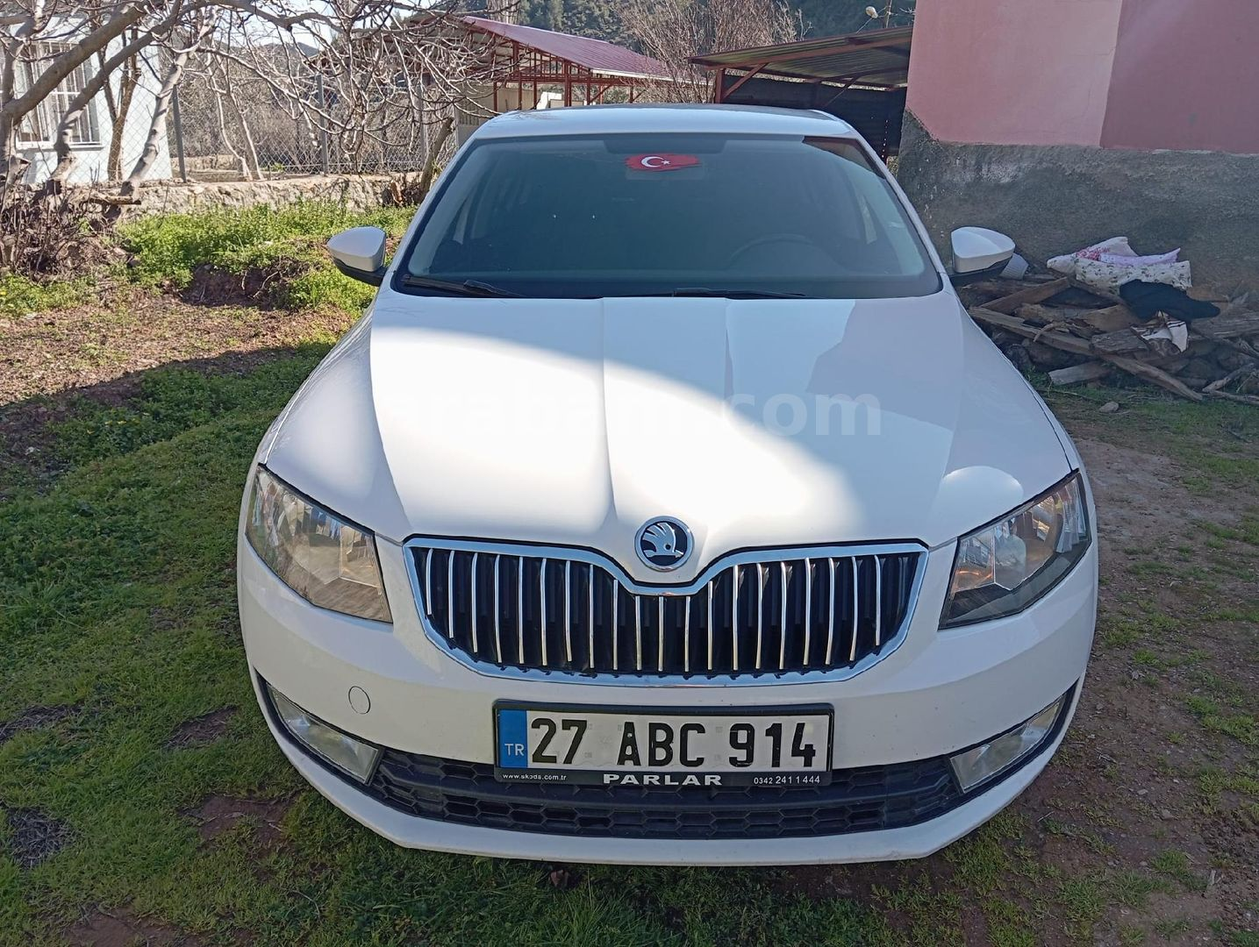plate: (495, 712, 830, 781)
